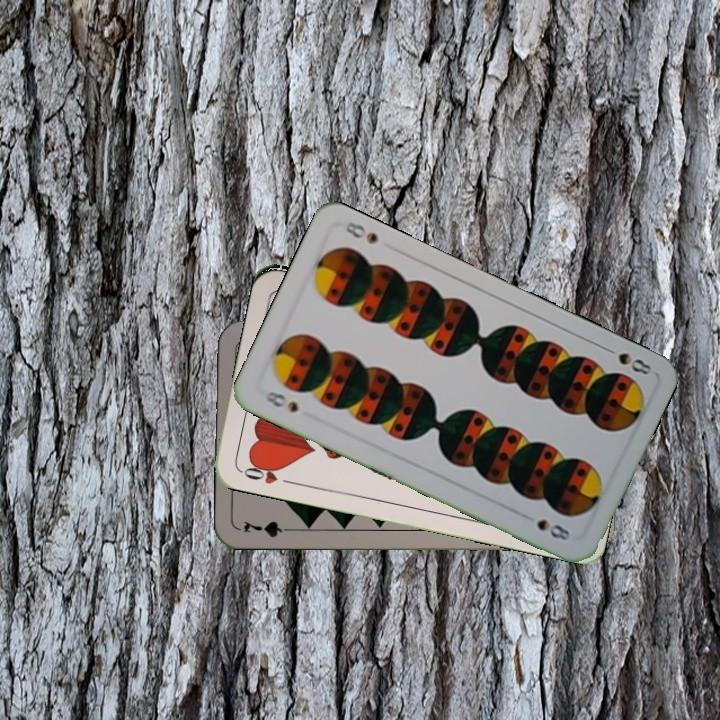G7: (240, 517, 298, 540)
HO: (237, 456, 296, 487)
S8: (599, 342, 654, 378), (261, 387, 301, 415)
